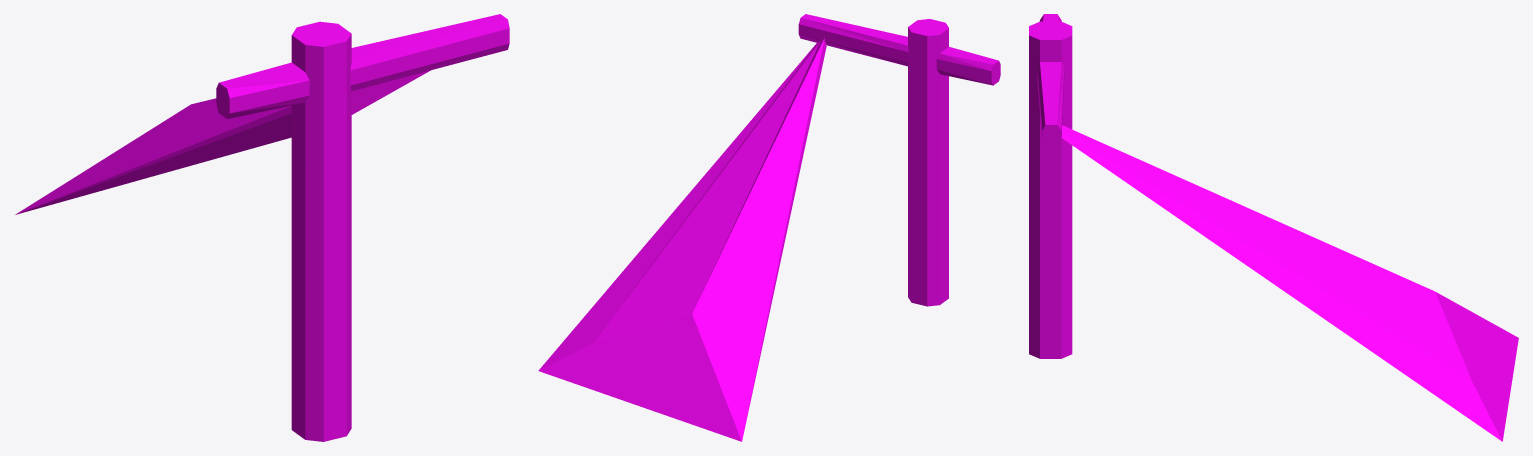
The model's file is trawlernet-r.obj.
3 views of the same model, side by side, from view 1: azimuth 30°, elevation 25°; view 2: azimuth 150°, elevation 25°; view 3: azimuth 270°, elevation 25° (orthographic). The views are drawn at different scales.
Visible parts, largest first — view 1: trawlernet-r_back; view 2: trawlernet-r_back; view 3: trawlernet-r_back.
Boxes of the visible parts, bbox=[...] form: trawlernet-r_back: bbox=[15, 14, 509, 441]; trawlernet-r_back: bbox=[538, 14, 1000, 441]; trawlernet-r_back: bbox=[1029, 14, 1518, 441].
Bounding box in the file's own units: 2.68 × 2.6 × 3.62.
